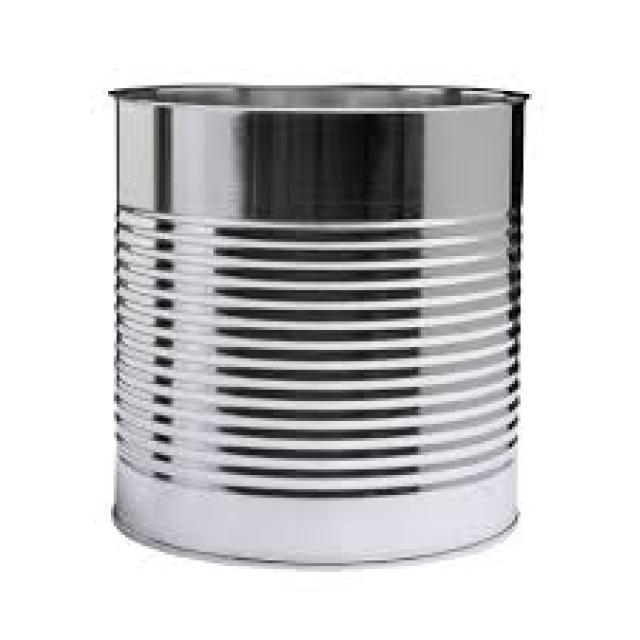can: (74, 56, 547, 569)
